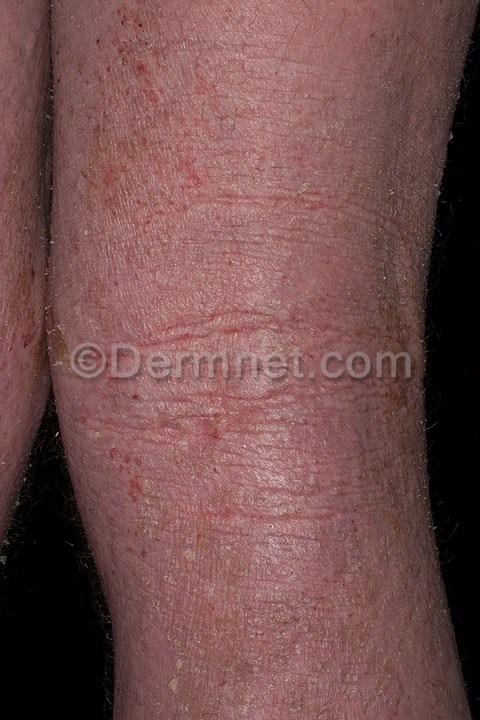Eczema: (82, 16, 427, 720)
